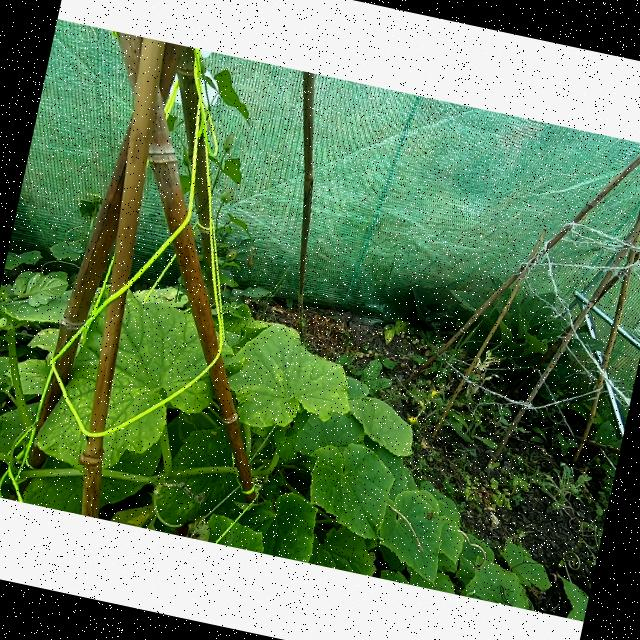Flowers: (406, 414, 418, 426), (428, 388, 438, 400), (416, 398, 426, 408)
